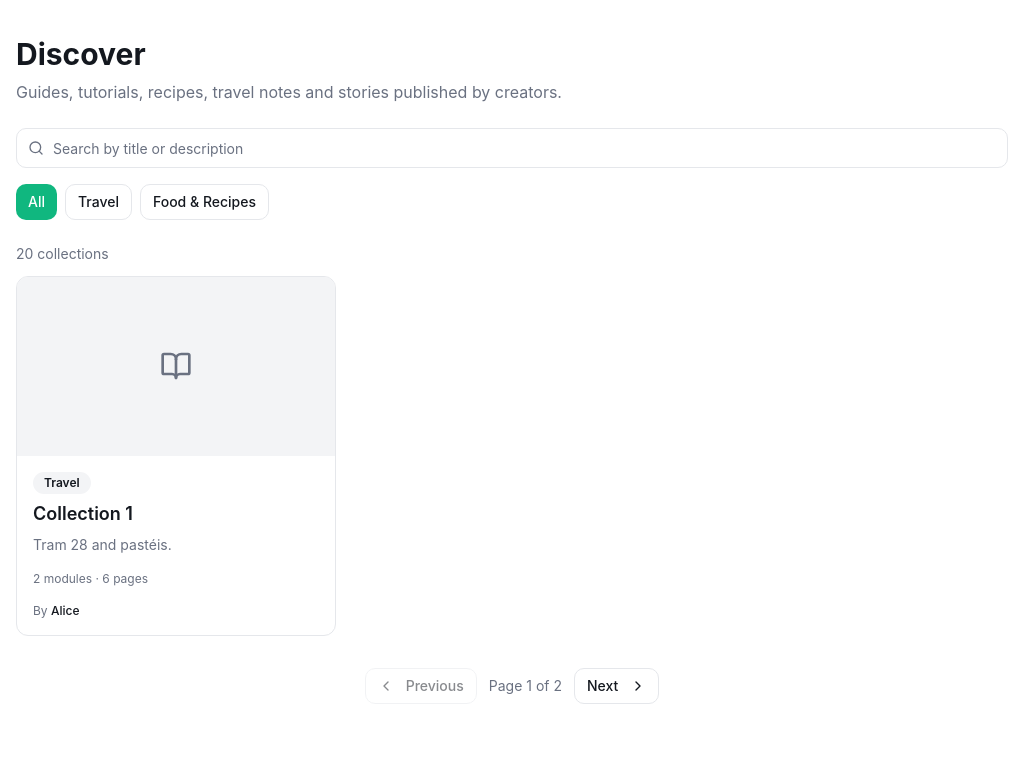
Test: Discover › keeps the previous results visible while the next page loads (no spinner flash)
(page scrolled)
expect the heading "Collection 1" is shown: met, box x1=33 y1=503 x2=133 y2=524
Click the button "Next": [617, 686] box x1=574 y1=668 x2=659 y2=704
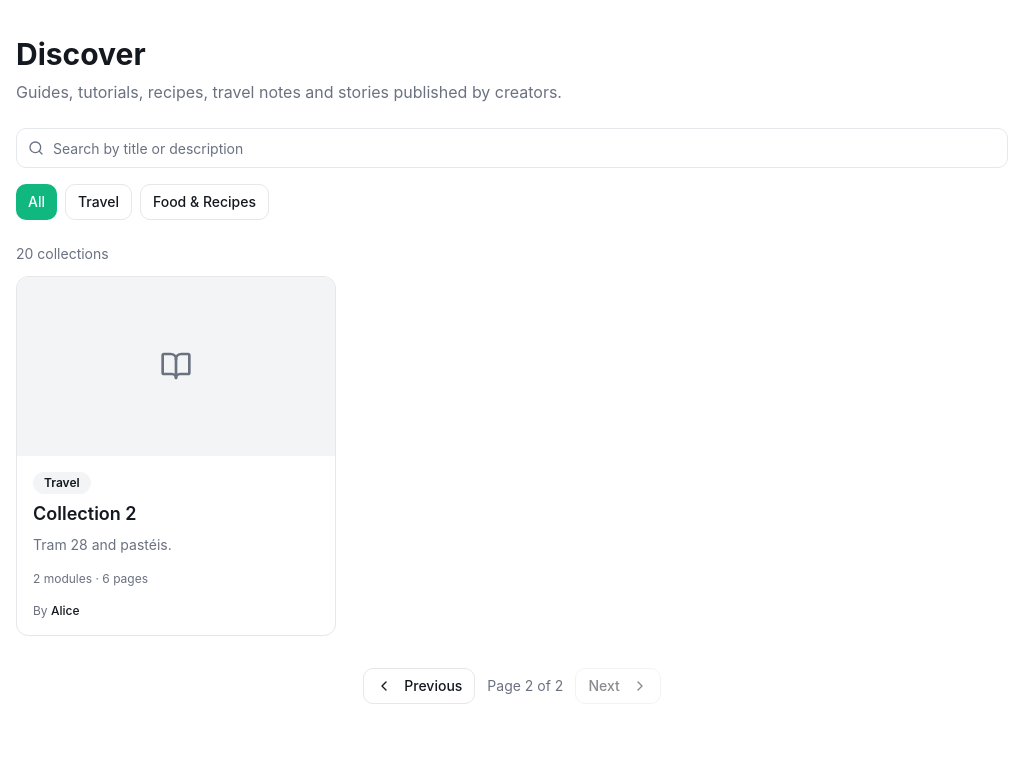
expect the heading "Collection 2" is shown: met, box x1=33 y1=503 x2=137 y2=524
